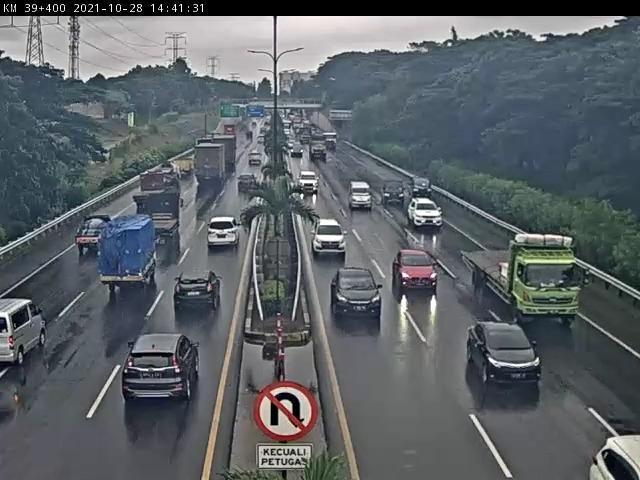car: (120, 333, 200, 402), (464, 321, 544, 386), (1, 296, 49, 363), (331, 267, 383, 319), (172, 269, 222, 311), (393, 251, 439, 293), (76, 213, 114, 255), (311, 220, 347, 259), (410, 199, 445, 231), (208, 218, 243, 249), (347, 182, 373, 212), (381, 182, 405, 206), (298, 172, 320, 195), (408, 178, 432, 198), (238, 173, 258, 193)
truck: (460, 234, 584, 325), (98, 217, 158, 289), (136, 191, 183, 243), (135, 173, 168, 206), (155, 163, 181, 191)
